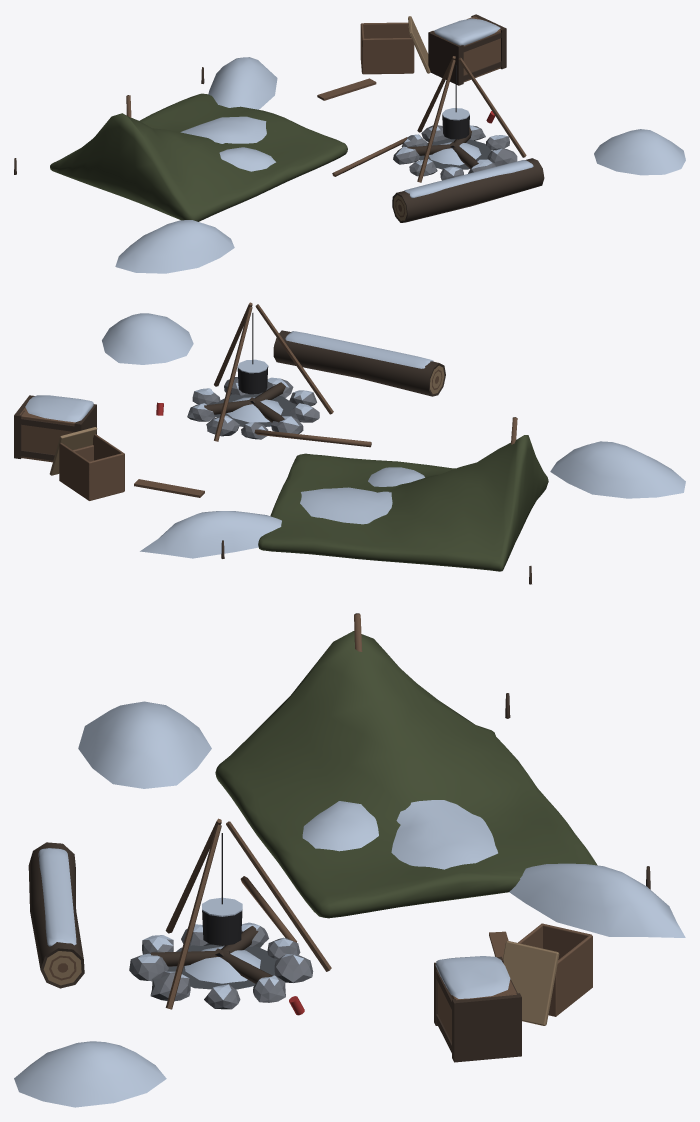
File: campsite_remains.glb
The picture shows the model from 3 angles, top to bottom: view 1: azimuth 30°, elevation 25°; view 2: azimuth 150°, elevation 25°; view 3: azimuth 270°, elevation 25°; orthographic projection. The views are drawn at different scales.
Visible parts, largest first — view 1: Remains; view 2: Remains; view 3: Remains.
Boxes of the visible parts, <box> form: Remains: <box>14,14,685,273</box>; Remains: <box>14,302,685,584</box>; Remains: <box>14,613,685,1107</box>.
Size of what is drawn, in the model's own units: 6.74 by 1.21 by 4.73.
